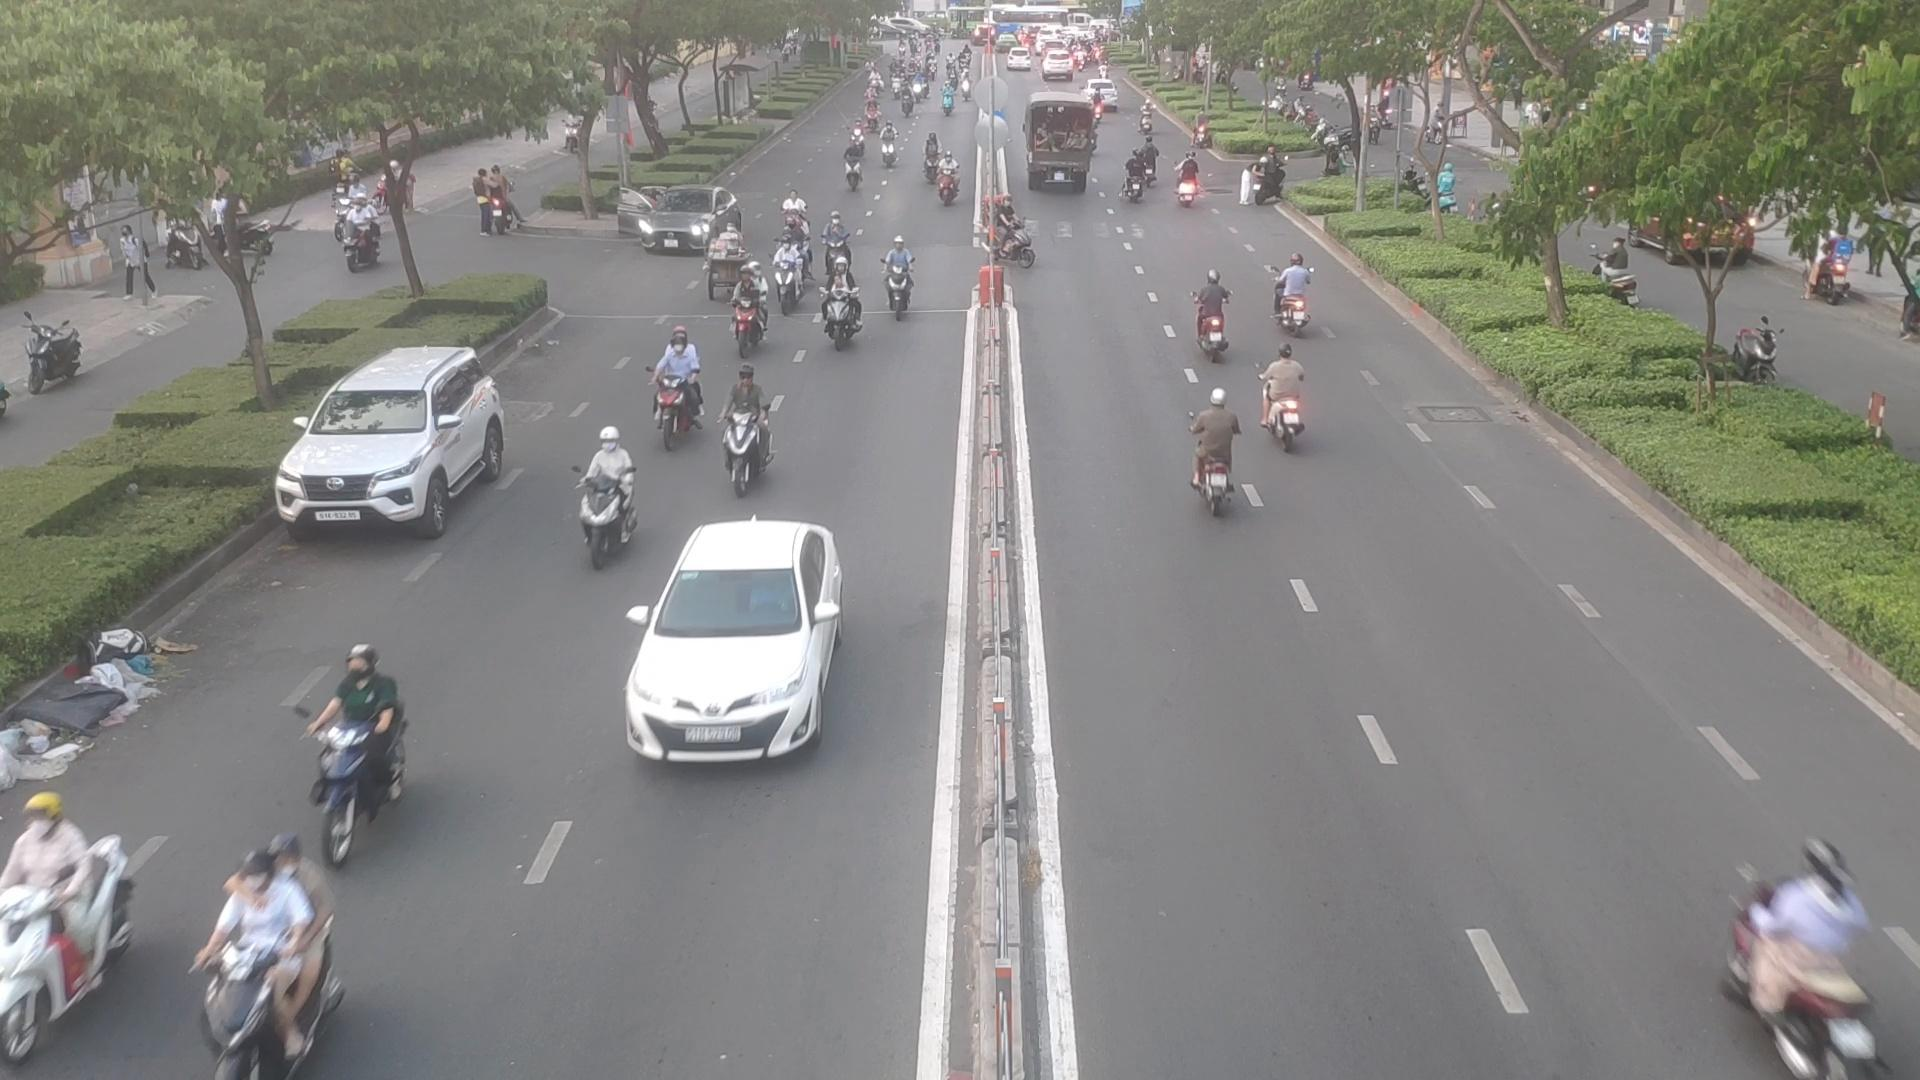car: (618, 518, 855, 761), (272, 345, 512, 535), (618, 187, 735, 255)
motorbike: (1695, 814, 1899, 1080), (179, 831, 356, 1073), (0, 794, 146, 1063), (309, 647, 415, 829), (576, 425, 640, 541), (651, 314, 709, 436), (721, 371, 783, 473), (1193, 392, 1237, 520), (1271, 240, 1316, 343), (1267, 344, 1311, 447), (1197, 264, 1240, 363), (978, 200, 1033, 264), (735, 247, 766, 351), (1249, 141, 1288, 214), (884, 240, 919, 314), (837, 135, 880, 196), (1174, 150, 1211, 214), (779, 236, 811, 306), (819, 295, 861, 347), (1117, 144, 1151, 200), (938, 152, 964, 207), (829, 214, 851, 274)
